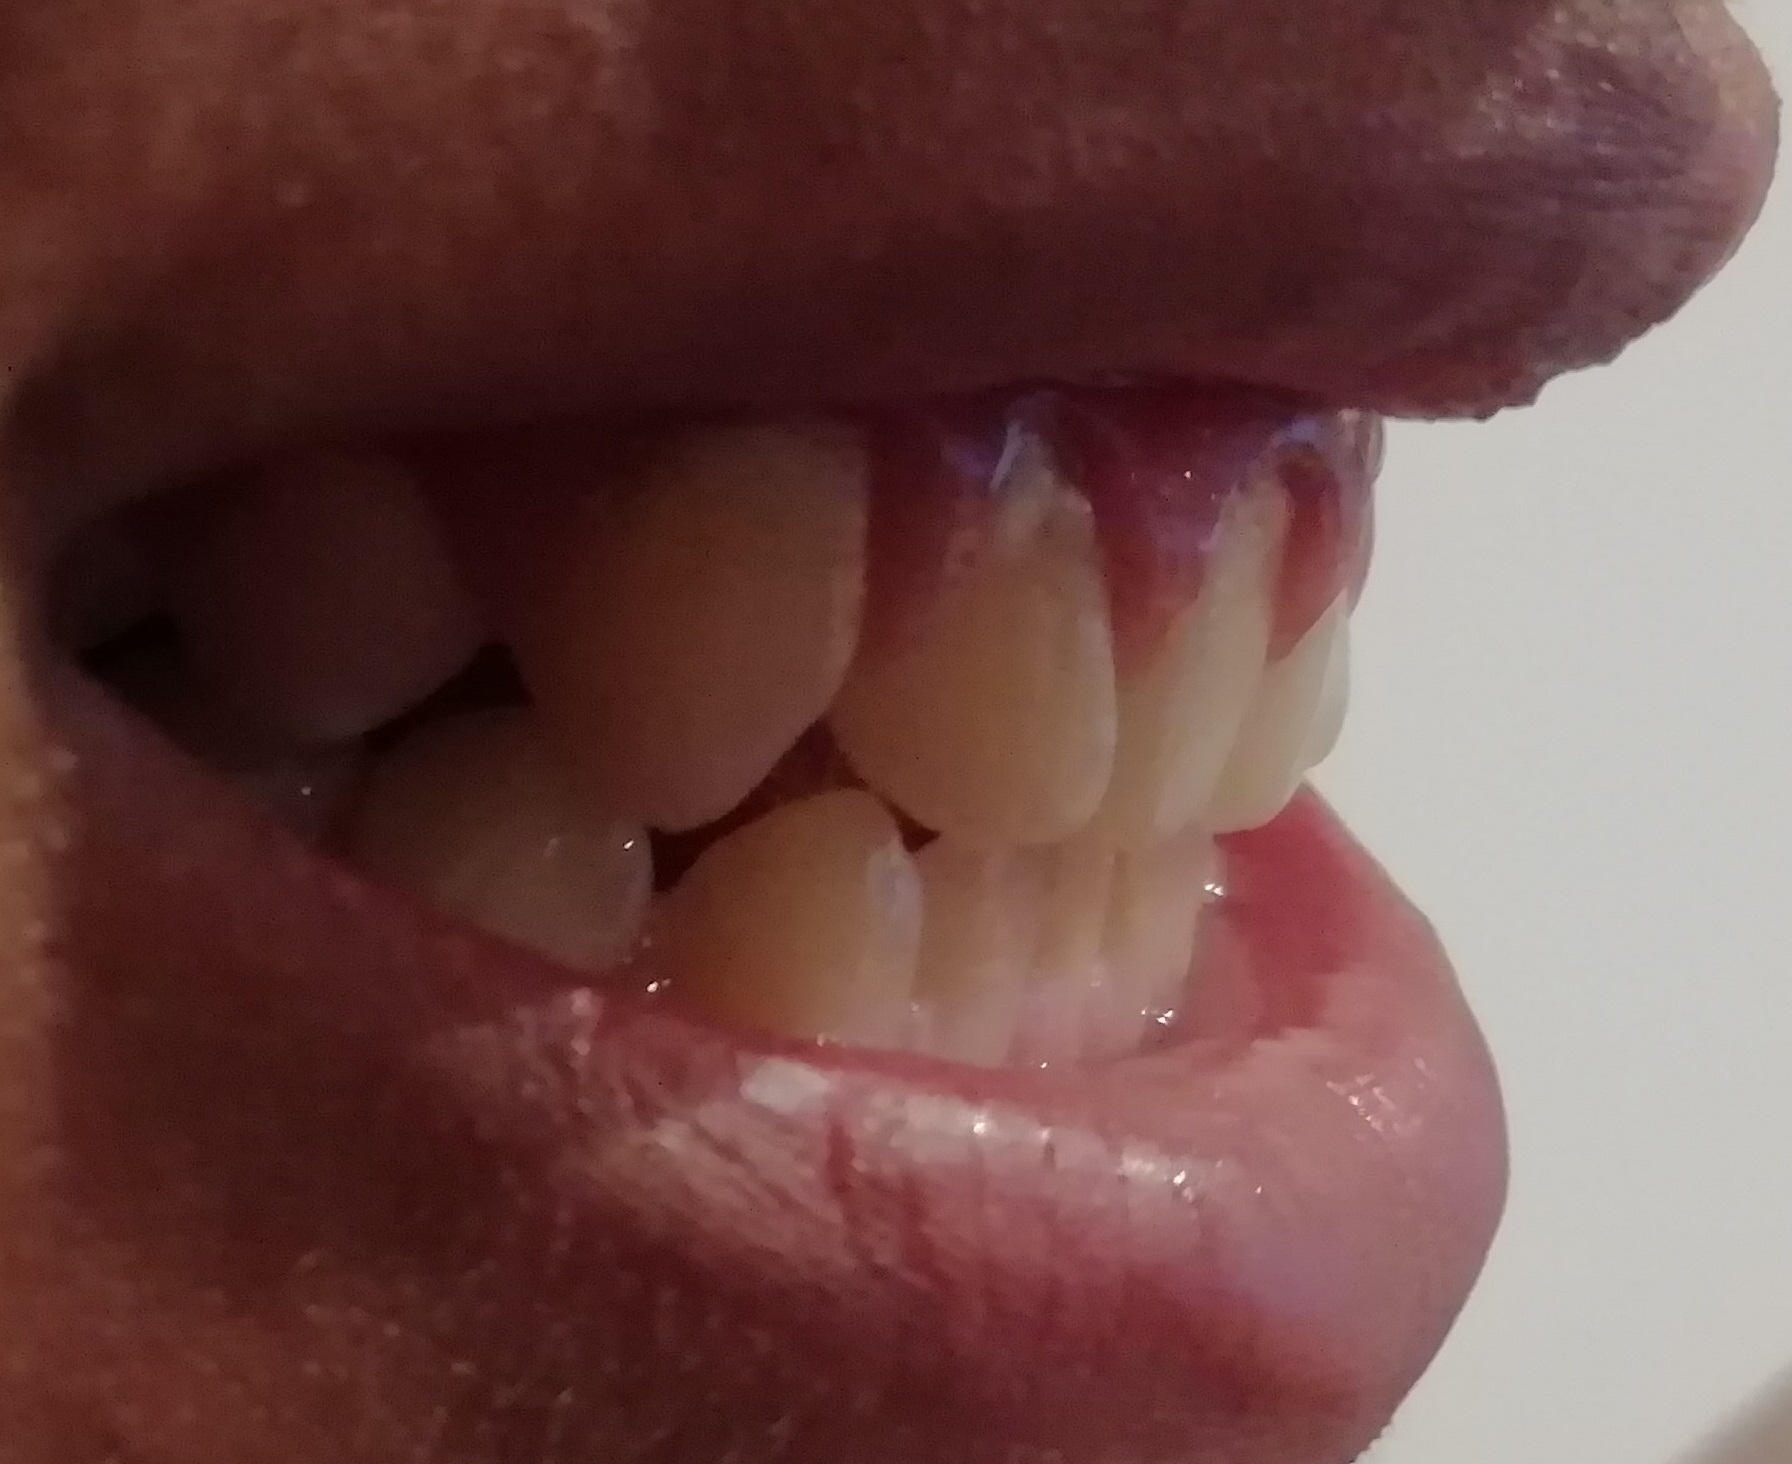boca: (112, 418, 1409, 1067)
